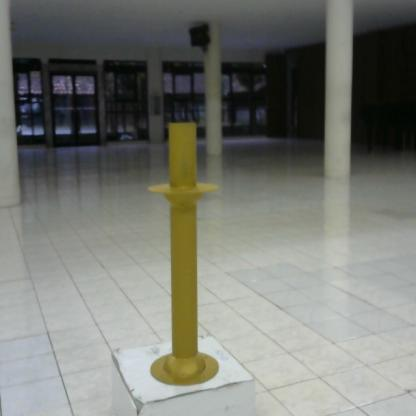pole: (144, 117, 227, 400)
